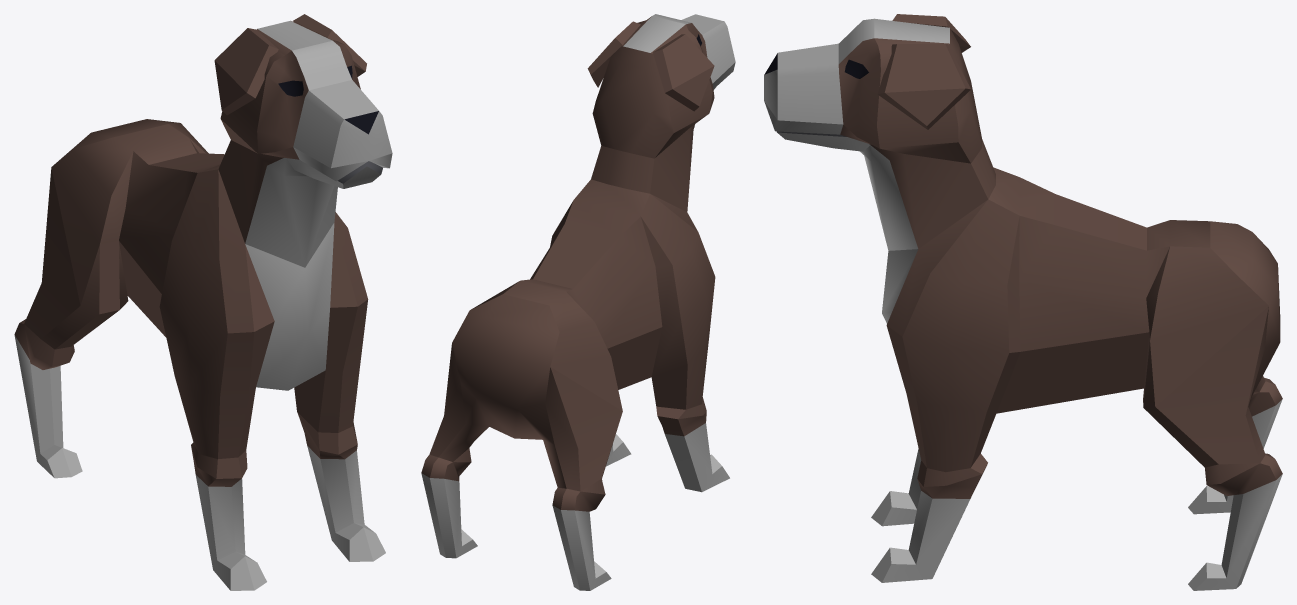
The model's file is Dog.fbx.
3 views of the same model, side by side, from view 1: azimuth 30°, elevation 25°; view 2: azimuth 150°, elevation 25°; view 3: azimuth 270°, elevation 25° (orthographic). The views are drawn at different scales.
Visible parts, largest first — view 1: Dog; view 2: Dog; view 3: Dog.
Part boxes in pixels (x1,y1,x2,y2): Dog: (14,14,392,590); Dog: (421,14,735,590); Dog: (764,14,1282,590).
Bounding box in the file's own units: 14.82 × 37.14 × 33.74.
